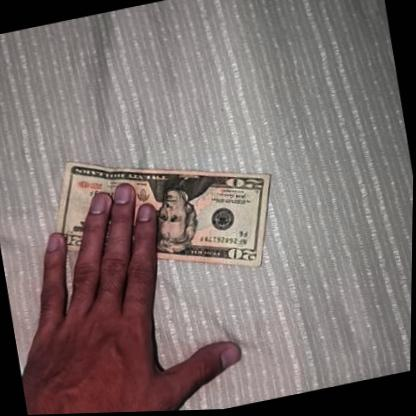twenty-front: (40, 121, 288, 311)
